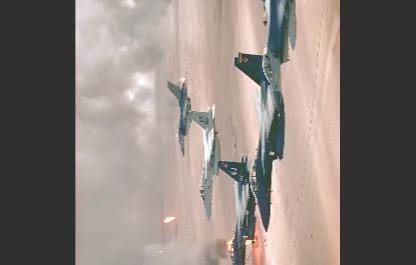F117: (232, 51, 284, 231), (217, 150, 258, 263), (188, 102, 220, 222)
F14: (238, 0, 297, 119), (167, 79, 192, 157)
